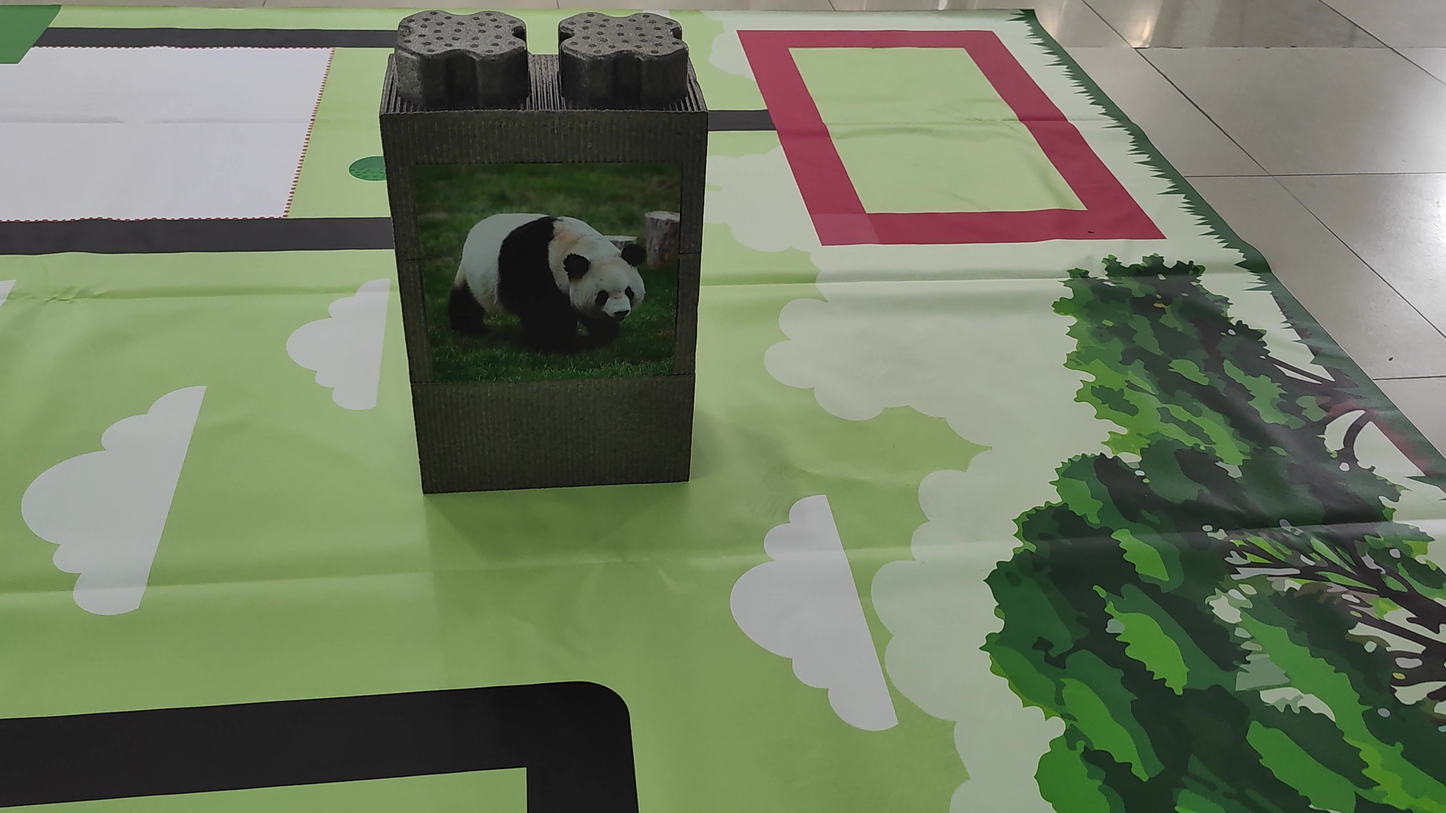panda: (438, 166, 685, 390)
